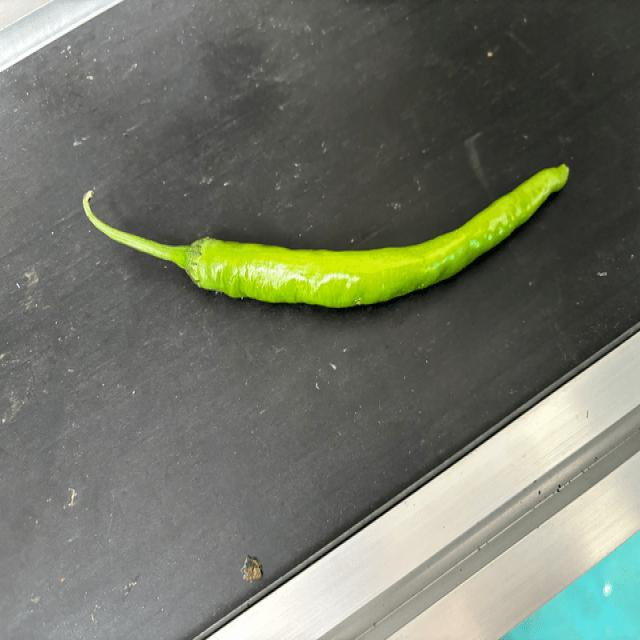chili: (184, 163, 571, 310)
